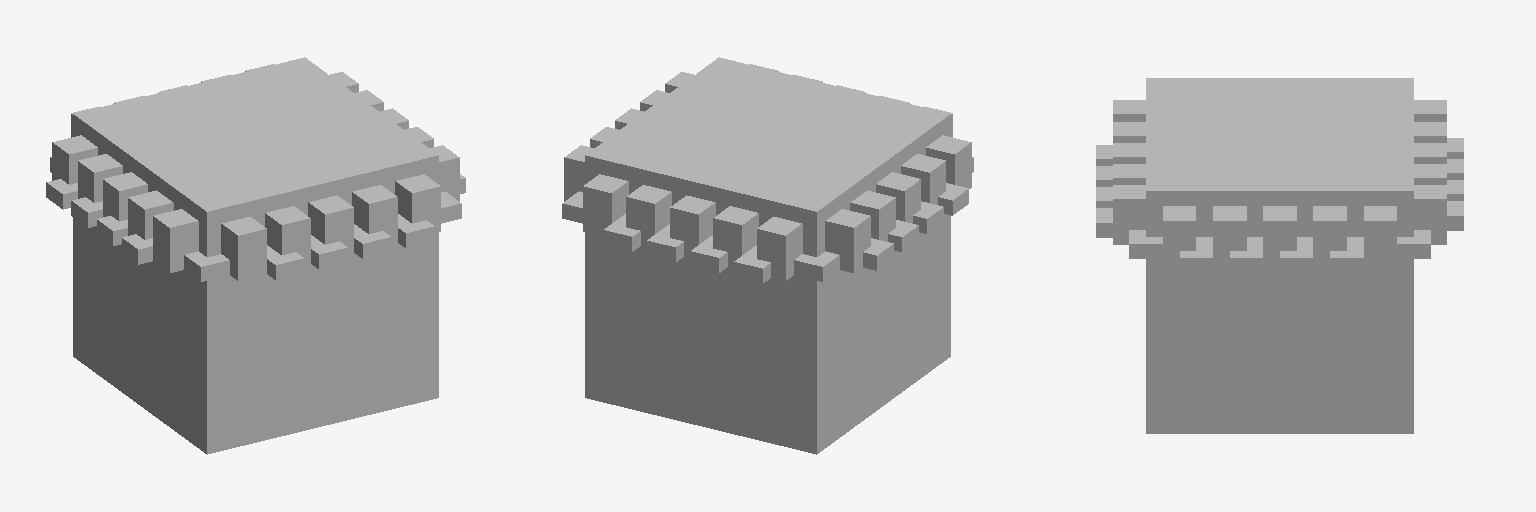
Rendered from filled.obj.
The picture shows the model from 3 angles: view 1: azimuth 30°, elevation 25°; view 2: azimuth 150°, elevation 25°; view 3: azimuth 270°, elevation 25°; orthographic projection.
Visible parts, largest first — view 1: filled; view 2: filled; view 3: filled.
Part boxes in pixels (left/top/right/bottom): filled: left=46, top=57, right=465, bottom=454; filled: left=562, top=57, right=973, bottom=454; filled: left=1096, top=78, right=1463, bottom=433.
Bounding box in the file's own units: 22 × 16 × 22.